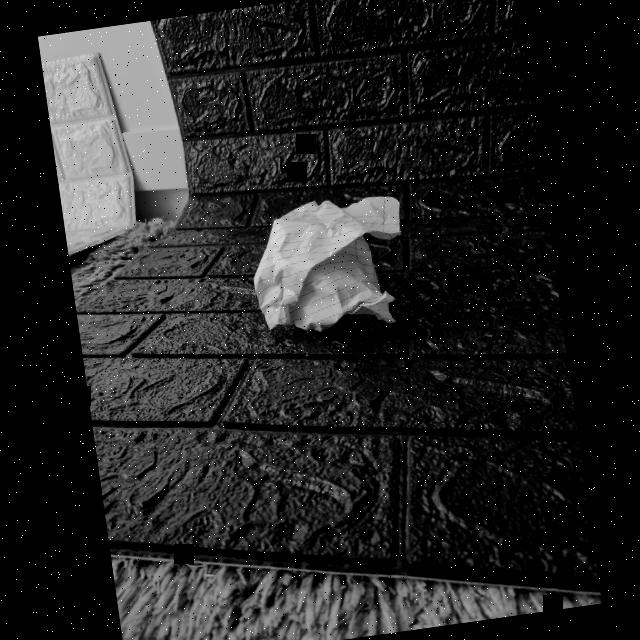scrap_paper: (242, 188, 421, 346)
